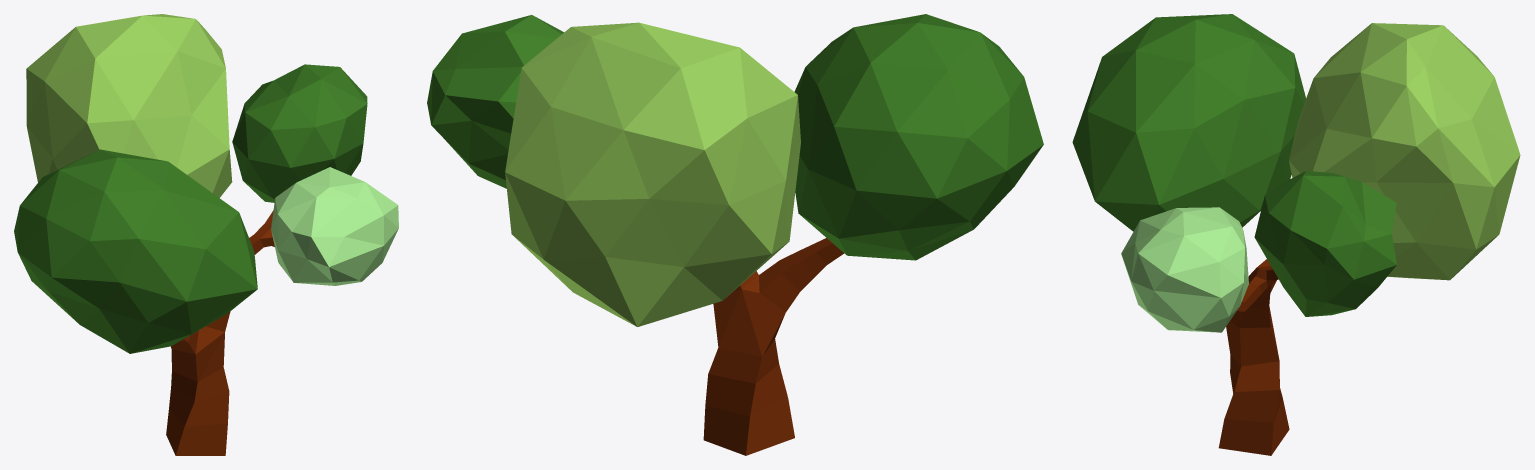
The model's file is Oak.fbx.
3 renders of one model, left to right at view 1: azimuth 30°, elevation 25°; view 2: azimuth 150°, elevation 25°; view 3: azimuth 270°, elevation 25°, orthographic. The views are drawn at different scales.
Parts seen in each view (by area): view 1: Leaves4, Leaves, Leaves2, Leaves3, TreeTrunk; view 2: Leaves, Leaves4, TreeTrunk, Leaves2; view 3: Leaves, Leaves4, Leaves2, Leaves3, TreeTrunk.
Boxes of the visible parts, x1,y1,x2,y2 form: Leaves4: (14, 149, 257, 353); Leaves: (26, 14, 232, 197); Leaves2: (232, 64, 367, 202); Leaves3: (271, 167, 398, 285); TreeTrunk: (166, 210, 274, 455); Leaves: (505, 22, 800, 326); Leaves4: (794, 14, 1043, 260); TreeTrunk: (703, 238, 843, 455); Leaves2: (427, 15, 563, 188); Leaves: (1289, 23, 1520, 280); Leaves4: (1072, 14, 1305, 231); Leaves2: (1254, 171, 1396, 316); Leaves3: (1121, 207, 1248, 332); TreeTrunk: (1218, 259, 1289, 455).
Size of the model in its own units: 1512 by 1367 by 1353.
